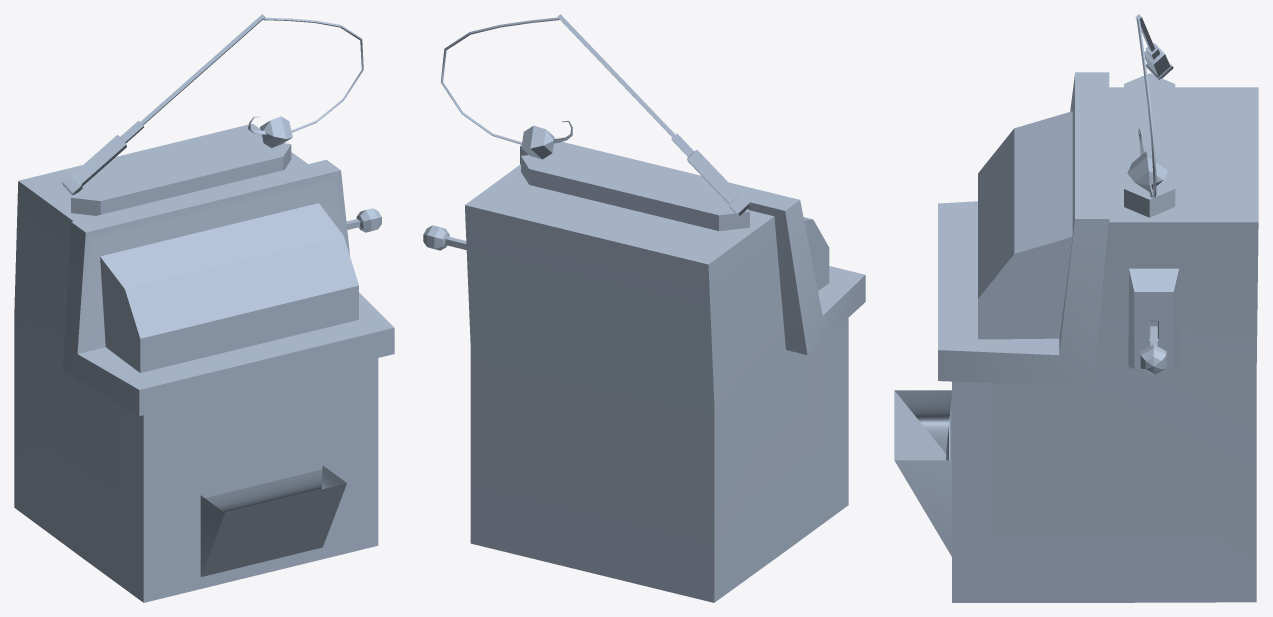
File: UpgradeShop.fbx
3 renders of one model, left to right at view 1: azimuth 30°, elevation 25°; view 2: azimuth 150°, elevation 25°; view 3: azimuth 270°, elevation 25°, orthographic. The views are drawn at different scales.
Parts seen in each view (by area): view 1: Machine, pCylinder21, MiniDoor, FishyRod, polySurface2; view 2: Machine, FishyRod, pCylinder21, polySurface2; view 3: Machine, pCylinder21, MiniDoor, pCube6, FishyRod, polySurface2.
Part boxes in pixels (x1,y1,x2,y2): Machine: (14,123,394,602); pCylinder21: (100,203,358,372); MiniDoor: (200,465,346,576); FishyRod: (62,14,363,195); polySurface2: (346,208,381,232); Machine: (465,142,865,602); FishyRod: (440,14,750,216); pCylinder21: (803,217,829,290); polySurface2: (423,225,466,250); Machine: (938,72,1258,602); pCylinder21: (978,111,1072,339); MiniDoor: (894,390,951,556); pCube6: (1128,268,1179,369); FishyRod: (1127,14,1173,198); polySurface2: (1140,326,1166,374).
Bounding box in the file's own units: 2.05 × 2.75 × 1.6.
